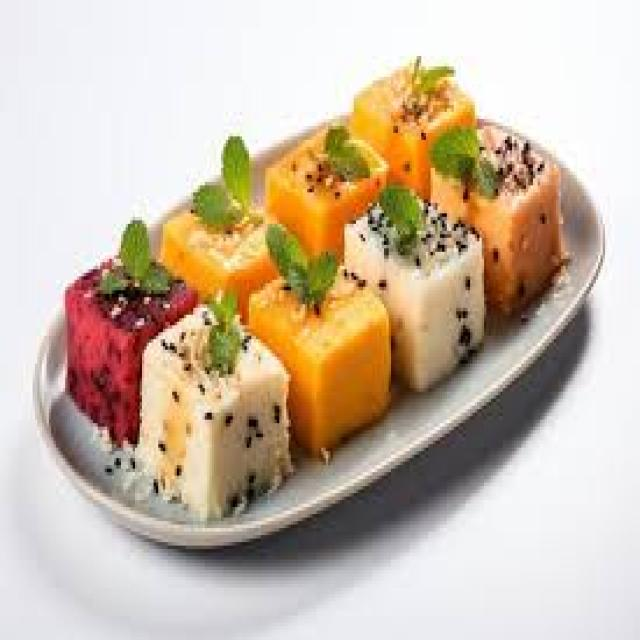DHOKLA: (135, 294, 289, 518), (247, 227, 386, 448)
